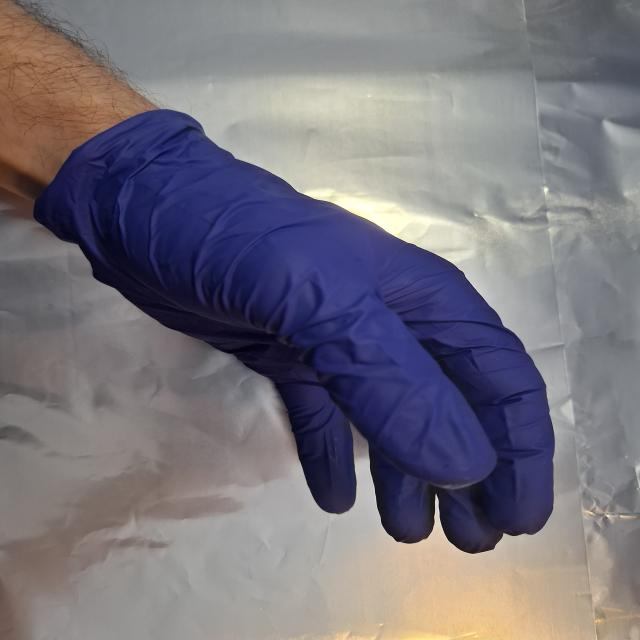glove_on: (50, 114, 560, 557)
